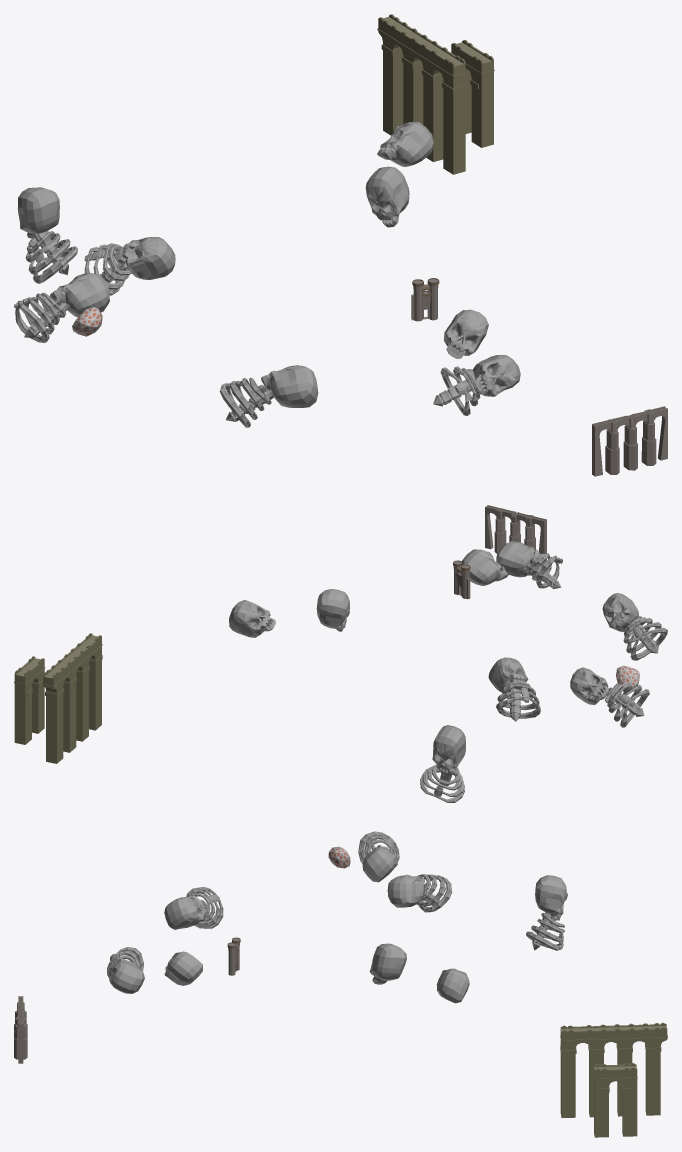
The model's file is props_caelid.glb.
The picture shows the model from 3 angles, top to bottom: view 1: azimuth 30°, elevation 25°; view 2: azimuth 150°, elevation 25°; view 3: azimuth 270°, elevation 25°; orthographic projection. The views are drawn at different scales.
Parts seen in each view (by area): view 1: Cube.117, Cube.119, Cube.115, Skull.004, Skull.002, Skull.007, Ribcage.002, Skull.003, Skull.001, Ribcage, Skull, Skull.005 (+5 smaller); view 2: Cube.117, Cube.115, Cube.119, Skull.001, Ribcage.004, Ribcage.001, Skull.003, Ribcage, Skull.004, Skull.005, Ribcage.002, Skull (+5 smaller); view 3: Cube.117, Cube.115, Skull.004, Skull.007, Skull.001, Skull.002, Skull.005, Skull.006, Ribcage.002, Skull, Ribcage.001, Skull.003 (+4 smaller).
Boxes of the visible parts, x1=… form: Cube.117: x1=377, y1=14, x2=466, y2=174; Cube.119: x1=592, y1=406, x2=667, y2=476; Cube.115: x1=451, y1=40, x2=494, y2=147; Skull.004: x1=365, y1=166, x2=409, y2=227; Skull.002: x1=115, y1=237, x2=175, y2=279; Skull.007: x1=261, y1=365, x2=318, y2=407; Ribcage.002: x1=25, y1=231, x2=77, y2=283; Skull.003: x1=377, y1=122, x2=433, y2=166; Skull.001: x1=17, y1=187, x2=59, y2=238; Ribcage: x1=14, y1=292, x2=69, y2=342; Skull: x1=49, y1=273, x2=109, y2=316; Skull.005: x1=443, y1=309, x2=488, y2=358; Cube.117: x1=42, y1=633, x2=102, y2=763; Cube.115: x1=14, y1=656, x2=45, y2=744; Cube.119: x1=485, y1=505, x2=546, y2=560; Skull.001: x1=432, y1=725, x2=465, y2=775; Ribcage.004: x1=623, y1=616, x2=667, y2=660; Ribcage.001: x1=496, y1=681, x2=540, y2=721; Skull.003: x1=229, y1=600, x2=275, y2=637; Ribcage: x1=605, y1=682, x2=649, y2=727; Skull.004: x1=316, y1=589, x2=349, y2=631; Skull.005: x1=461, y1=549, x2=508, y2=585; Ribcage.002: x1=420, y1=764, x2=464, y2=802; Skull: x1=570, y1=667, x2=608, y2=704; Cube.117: x1=560, y1=1022, x2=667, y2=1117; Cube.115: x1=593, y1=1063, x2=637, y2=1137; Skull.004: x1=369, y1=943, x2=406, y2=984; Skull.007: x1=164, y1=895, x2=208, y2=929; Skull.001: x1=535, y1=875, x2=567, y2=920; Skull.002: x1=387, y1=874, x2=424, y2=907; Skull.005: x1=164, y1=951, x2=202, y2=985; Skull.006: x1=109, y1=958, x2=144, y2=993; Ribcage.002: x1=526, y1=912, x2=564, y2=950; Skull: x1=362, y1=845, x2=397, y2=882; Ribcage.001: x1=417, y1=874, x2=452, y2=912; Skull.003: x1=436, y1=968, x2=469, y2=1003.
Size of the model in its own units: 15.58 by 3.16 by 18.25.
